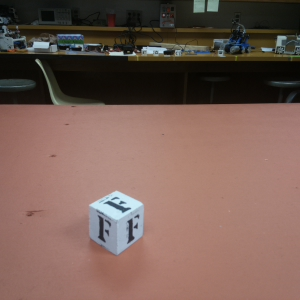blockF: (87, 189, 146, 257)
